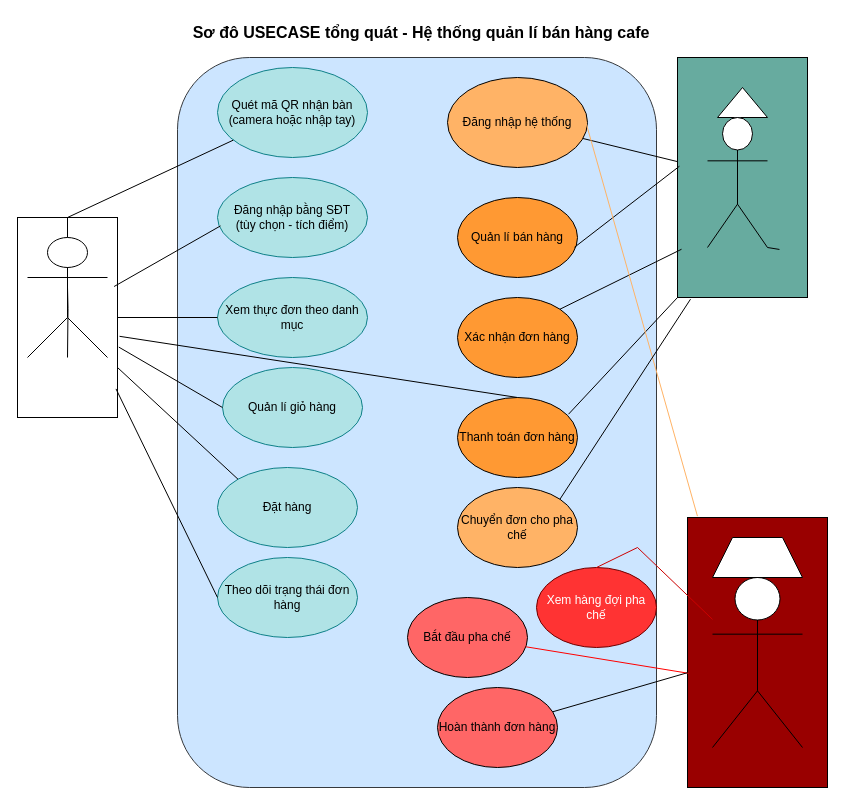
Image size: 845x805. Some labels were removed from this diagram. The shapes that lost their labels are listed below. From the top down, each one's centre as x and y in pixels, then its label:
At point 737,182: "Thu ngân".
At point 67,382: "Khách hàng".
At point 757,662: "Pha chế".
